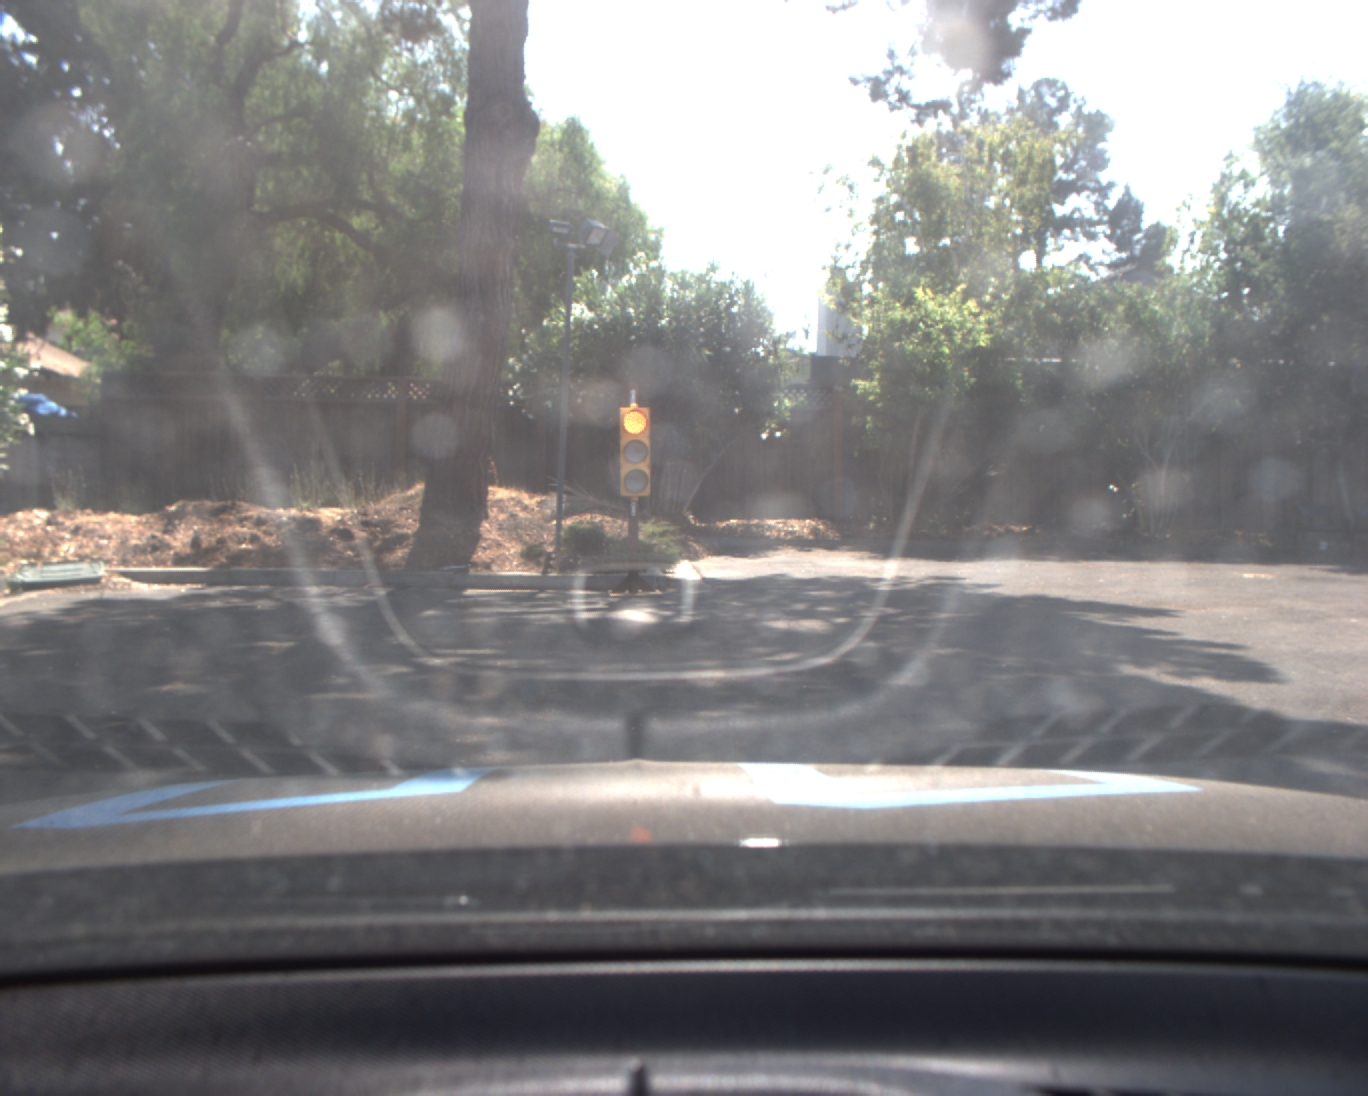red: (620, 406, 655, 503)
